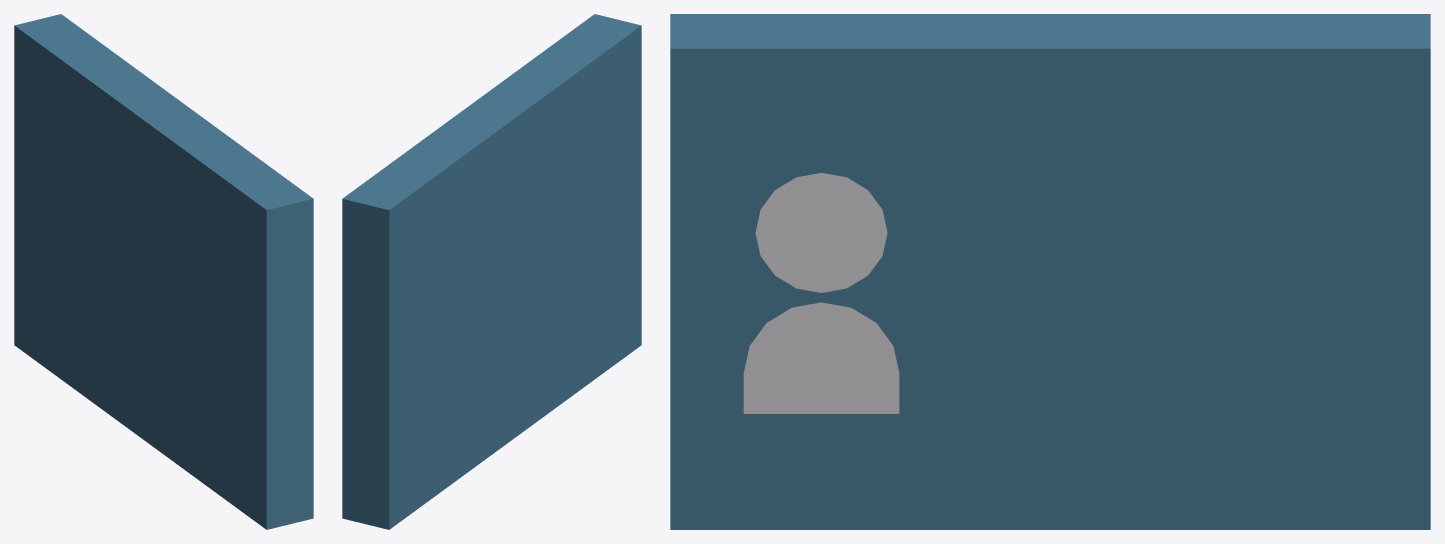
The model's file is Name.gltf.
3 views of the same model, side by side, from view 1: azimuth 30°, elevation 25°; view 2: azimuth 150°, elevation 25°; view 3: azimuth 270°, elevation 25° (orthographic). The views are drawn at different scales.
Parts seen in each view (by area): view 1: Circle.001; view 2: Circle.001; view 3: Circle.001.
Boxes of the visible parts, x1,y1,x2,y2 form: Circle.001: (14,14,313,529); Circle.001: (342,14,641,529); Circle.001: (670,14,1430,529).
Size of the model in its own units: 0.0114 by 0.069 by 0.0988.
